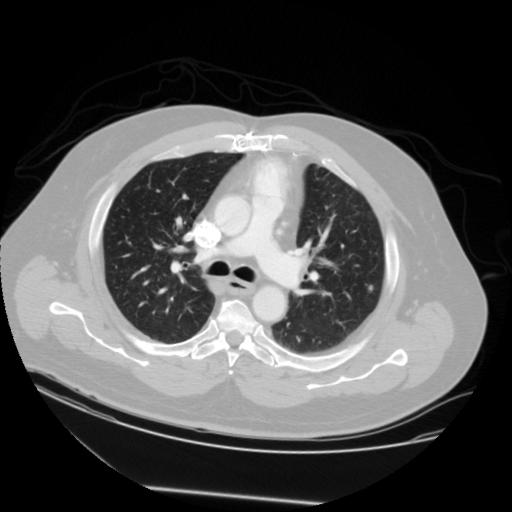nodule: (366, 283, 377, 294)
